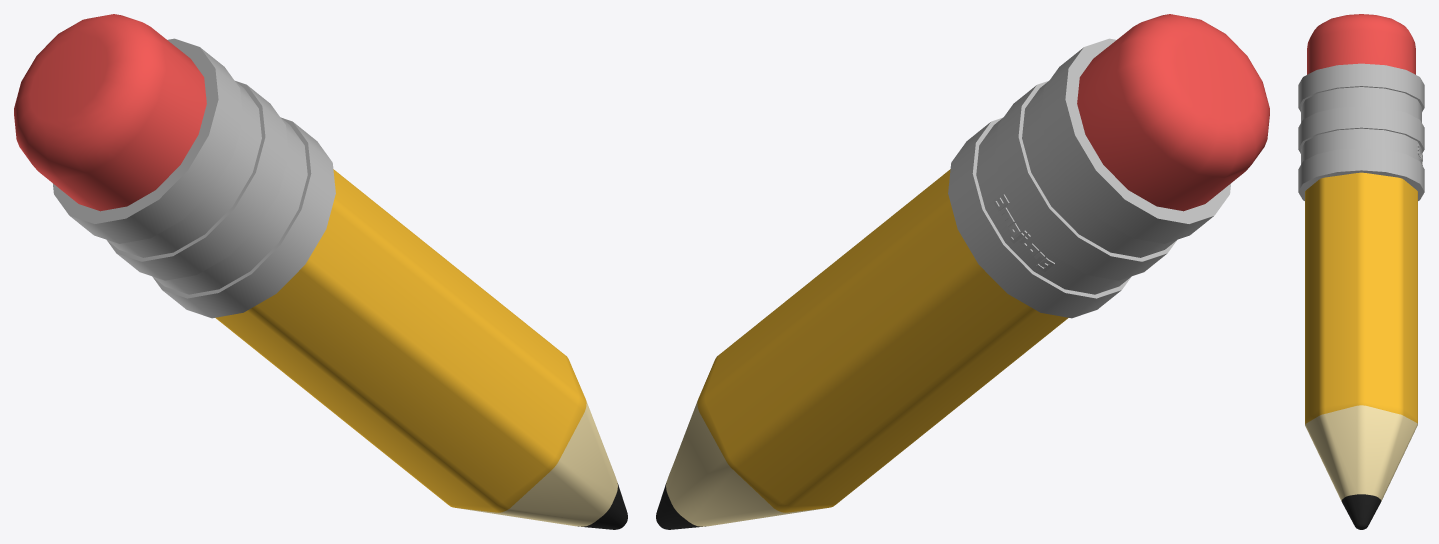
File: pencil.fbx
3 views of the same model, side by side, from view 1: azimuth 30°, elevation 25°; view 2: azimuth 150°, elevation 25°; view 3: azimuth 270°, elevation 25° (orthographic). The views are drawn at different scales.
Visible parts, largest first — view 1: Circle.2562; view 2: Circle.2562; view 3: Circle.2562.
Boxes of the visible parts, box(x1,y1,x2,y2) form: Circle.2562: box(14, 14, 627, 529); Circle.2562: box(656, 14, 1269, 529); Circle.2562: box(1298, 14, 1424, 529).
Bounding box in the file's own units: 214 × 214 × 66.04.
1 material, 1 textured.
